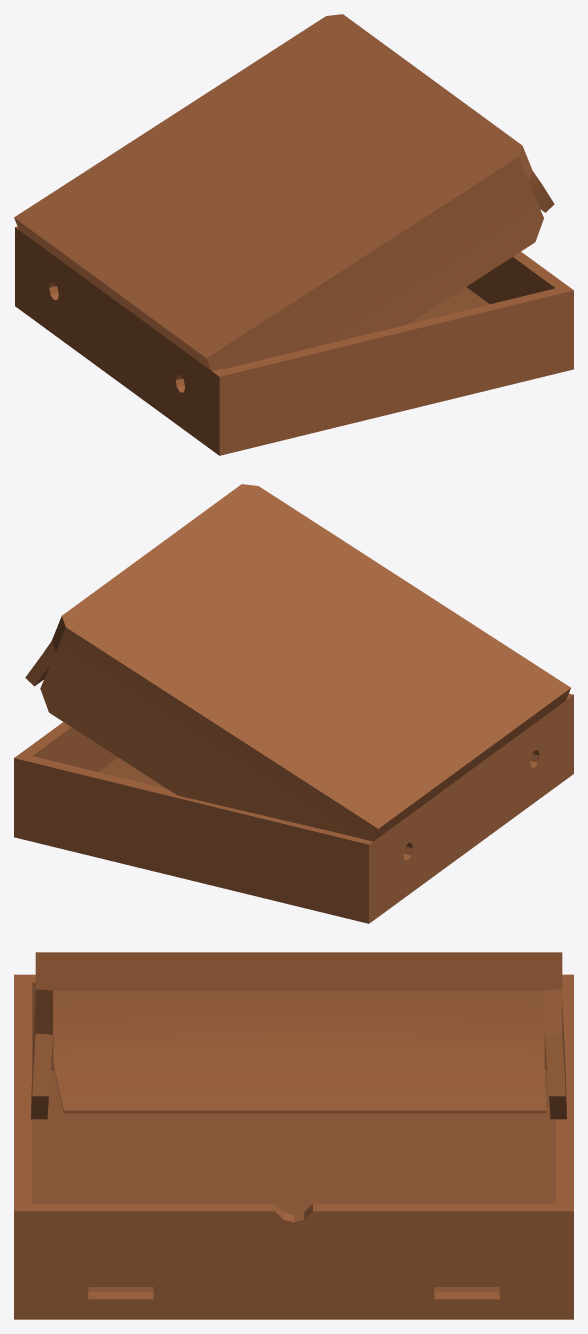
File: CardboardBox_02.glb
3 views of the same model, one above another, from view 1: azimuth 30°, elevation 25°; view 2: azimuth 150°, elevation 25°; view 3: azimuth 270°, elevation 25° (orthographic). The views are drawn at different scales.
Visible parts, largest first — view 1: Mesh_Box_02; view 2: Mesh_Box_02; view 3: Mesh_Box_02.
Part boxes in pixels (x1,y1,x2,y2): Mesh_Box_02: (14, 14, 573, 455); Mesh_Box_02: (14, 484, 573, 923); Mesh_Box_02: (14, 952, 573, 1319).
Size of the model in its own units: 0.3043 by 0.1799 by 0.3.
1 material, 1 textured.
